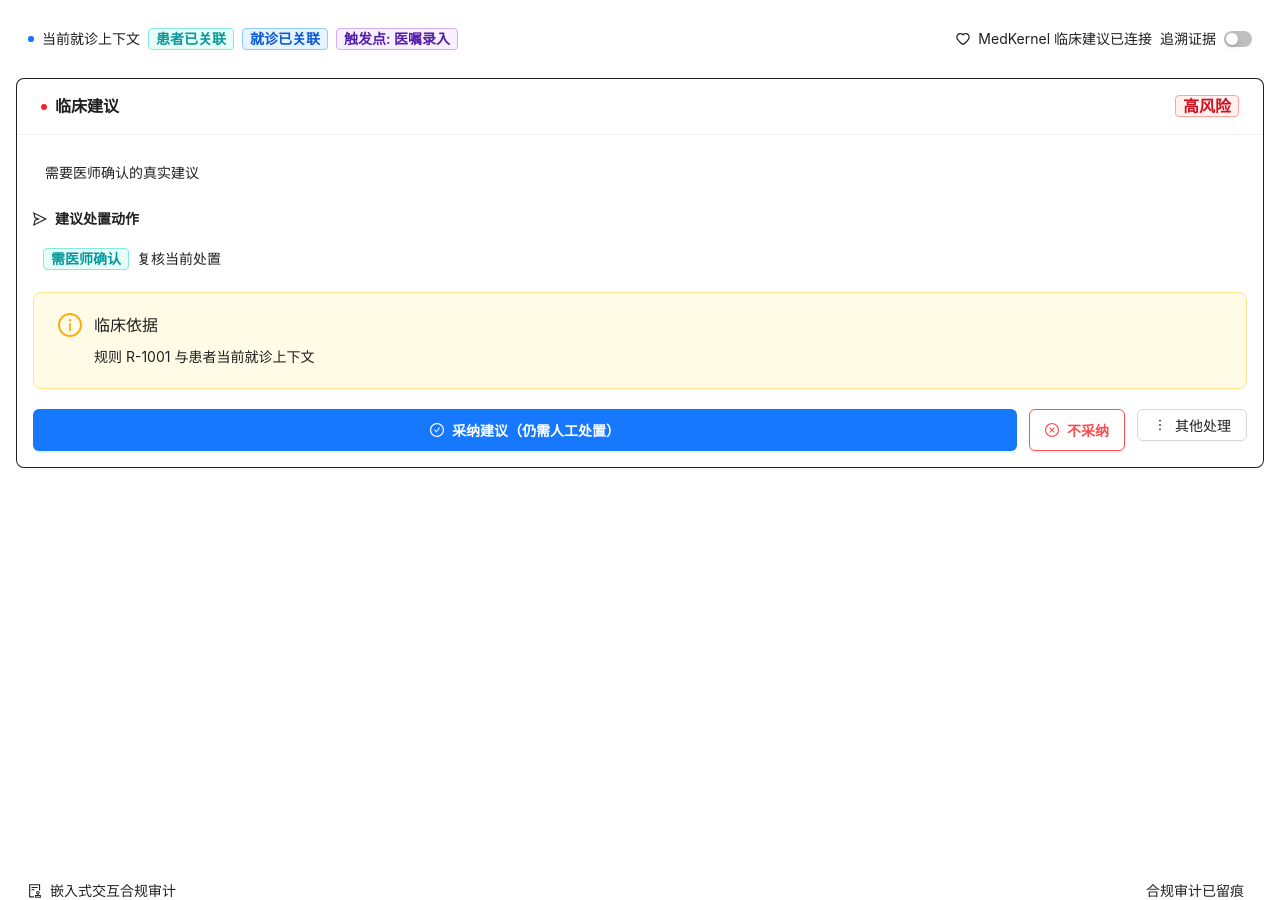
Test: EmbedLaunch › submits the selected card and posts physician feedback only to the validated parent origin
Click the button "采纳建议（仍需人工处置）" at (525, 430), box top-left (33, 409), bottom-right (1017, 451)
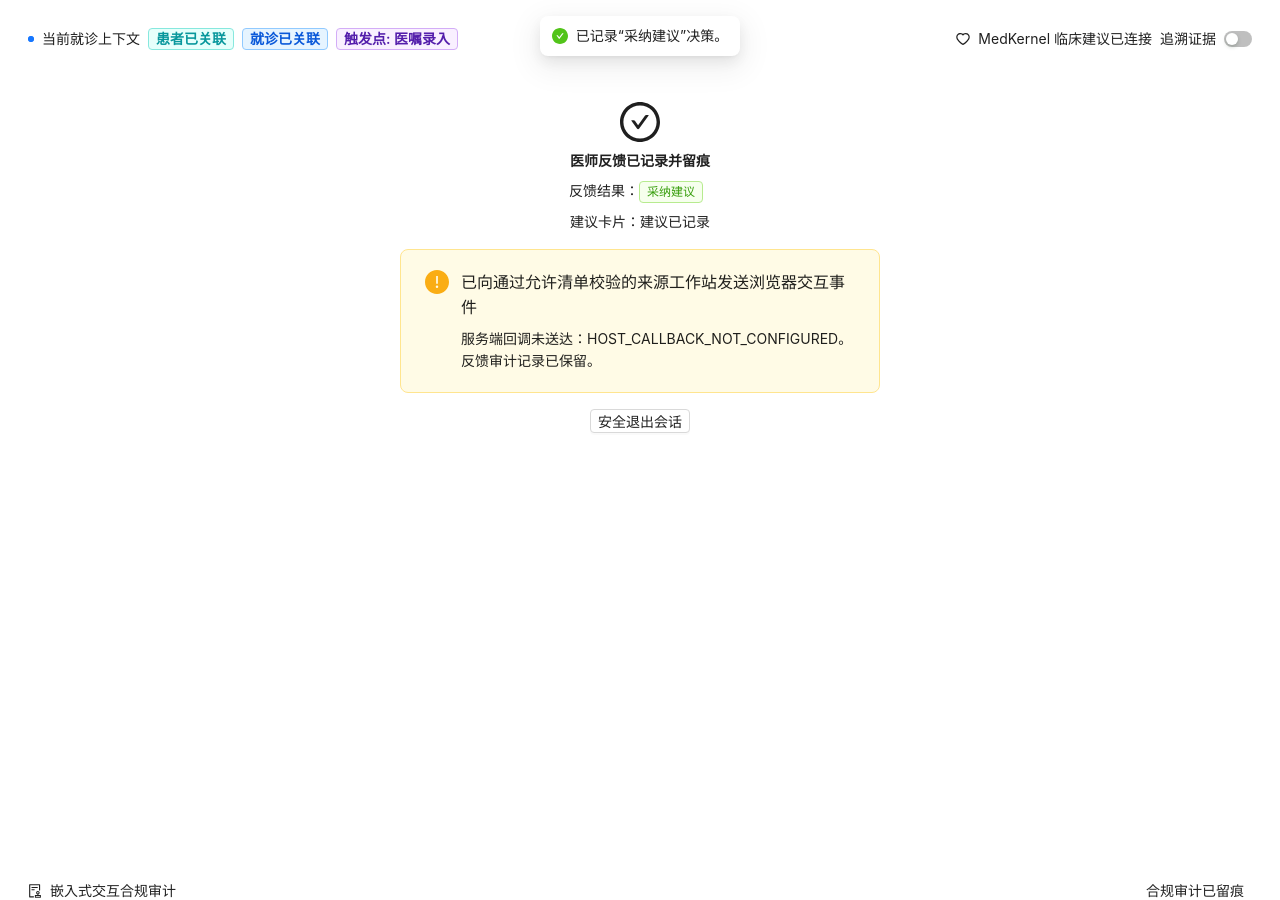
Expected: the text "建议卡片：建议已记录" is shown, top-left (570, 213), bottom-right (710, 230)
